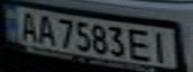3: (106, 24, 130, 58)
5: (72, 19, 93, 52)
7: (54, 16, 75, 48)
8: (87, 21, 109, 56)
A: (15, 9, 42, 43), (33, 12, 57, 45)
E: (127, 26, 157, 62)
I: (148, 29, 175, 63)
